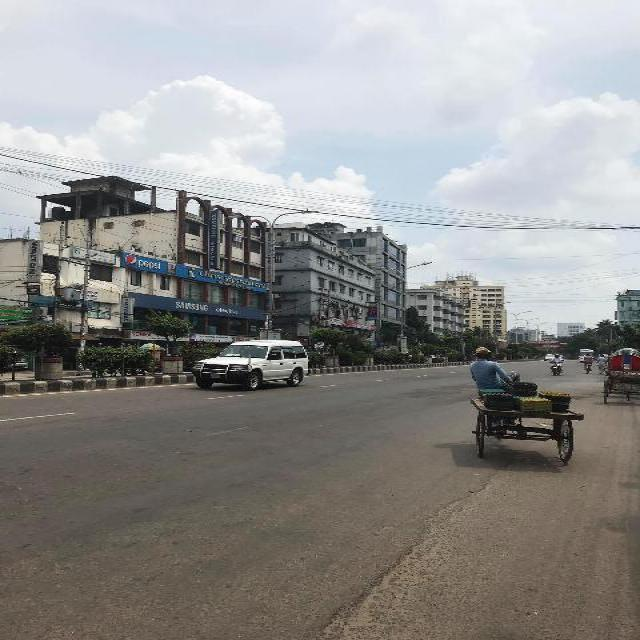bike: (548, 352, 563, 376)
vehicle: (469, 337, 586, 466), (191, 339, 310, 394), (602, 347, 640, 406), (579, 349, 595, 364), (584, 354, 594, 374), (543, 355, 555, 362)
